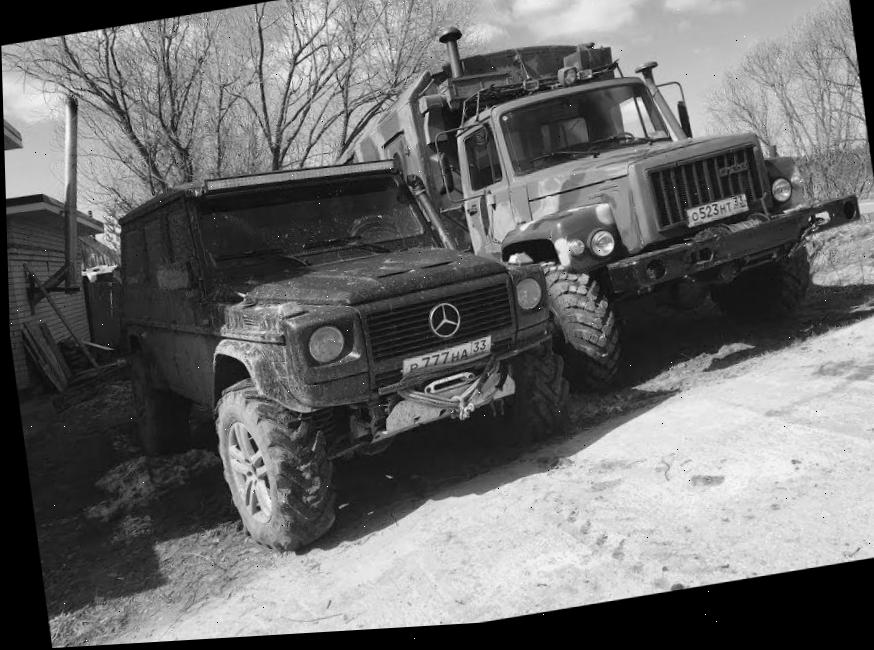truck: (315, 0, 874, 436)
